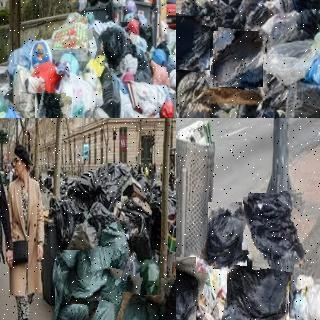Garbage: (223, 250, 292, 320), (246, 192, 304, 269), (74, 265, 135, 320), (211, 29, 265, 89), (203, 200, 247, 271), (61, 249, 116, 304), (91, 218, 137, 280), (176, 13, 212, 72), (51, 279, 97, 320), (96, 24, 129, 69), (113, 293, 168, 320), (63, 215, 99, 256), (141, 257, 166, 301), (32, 91, 69, 118)
